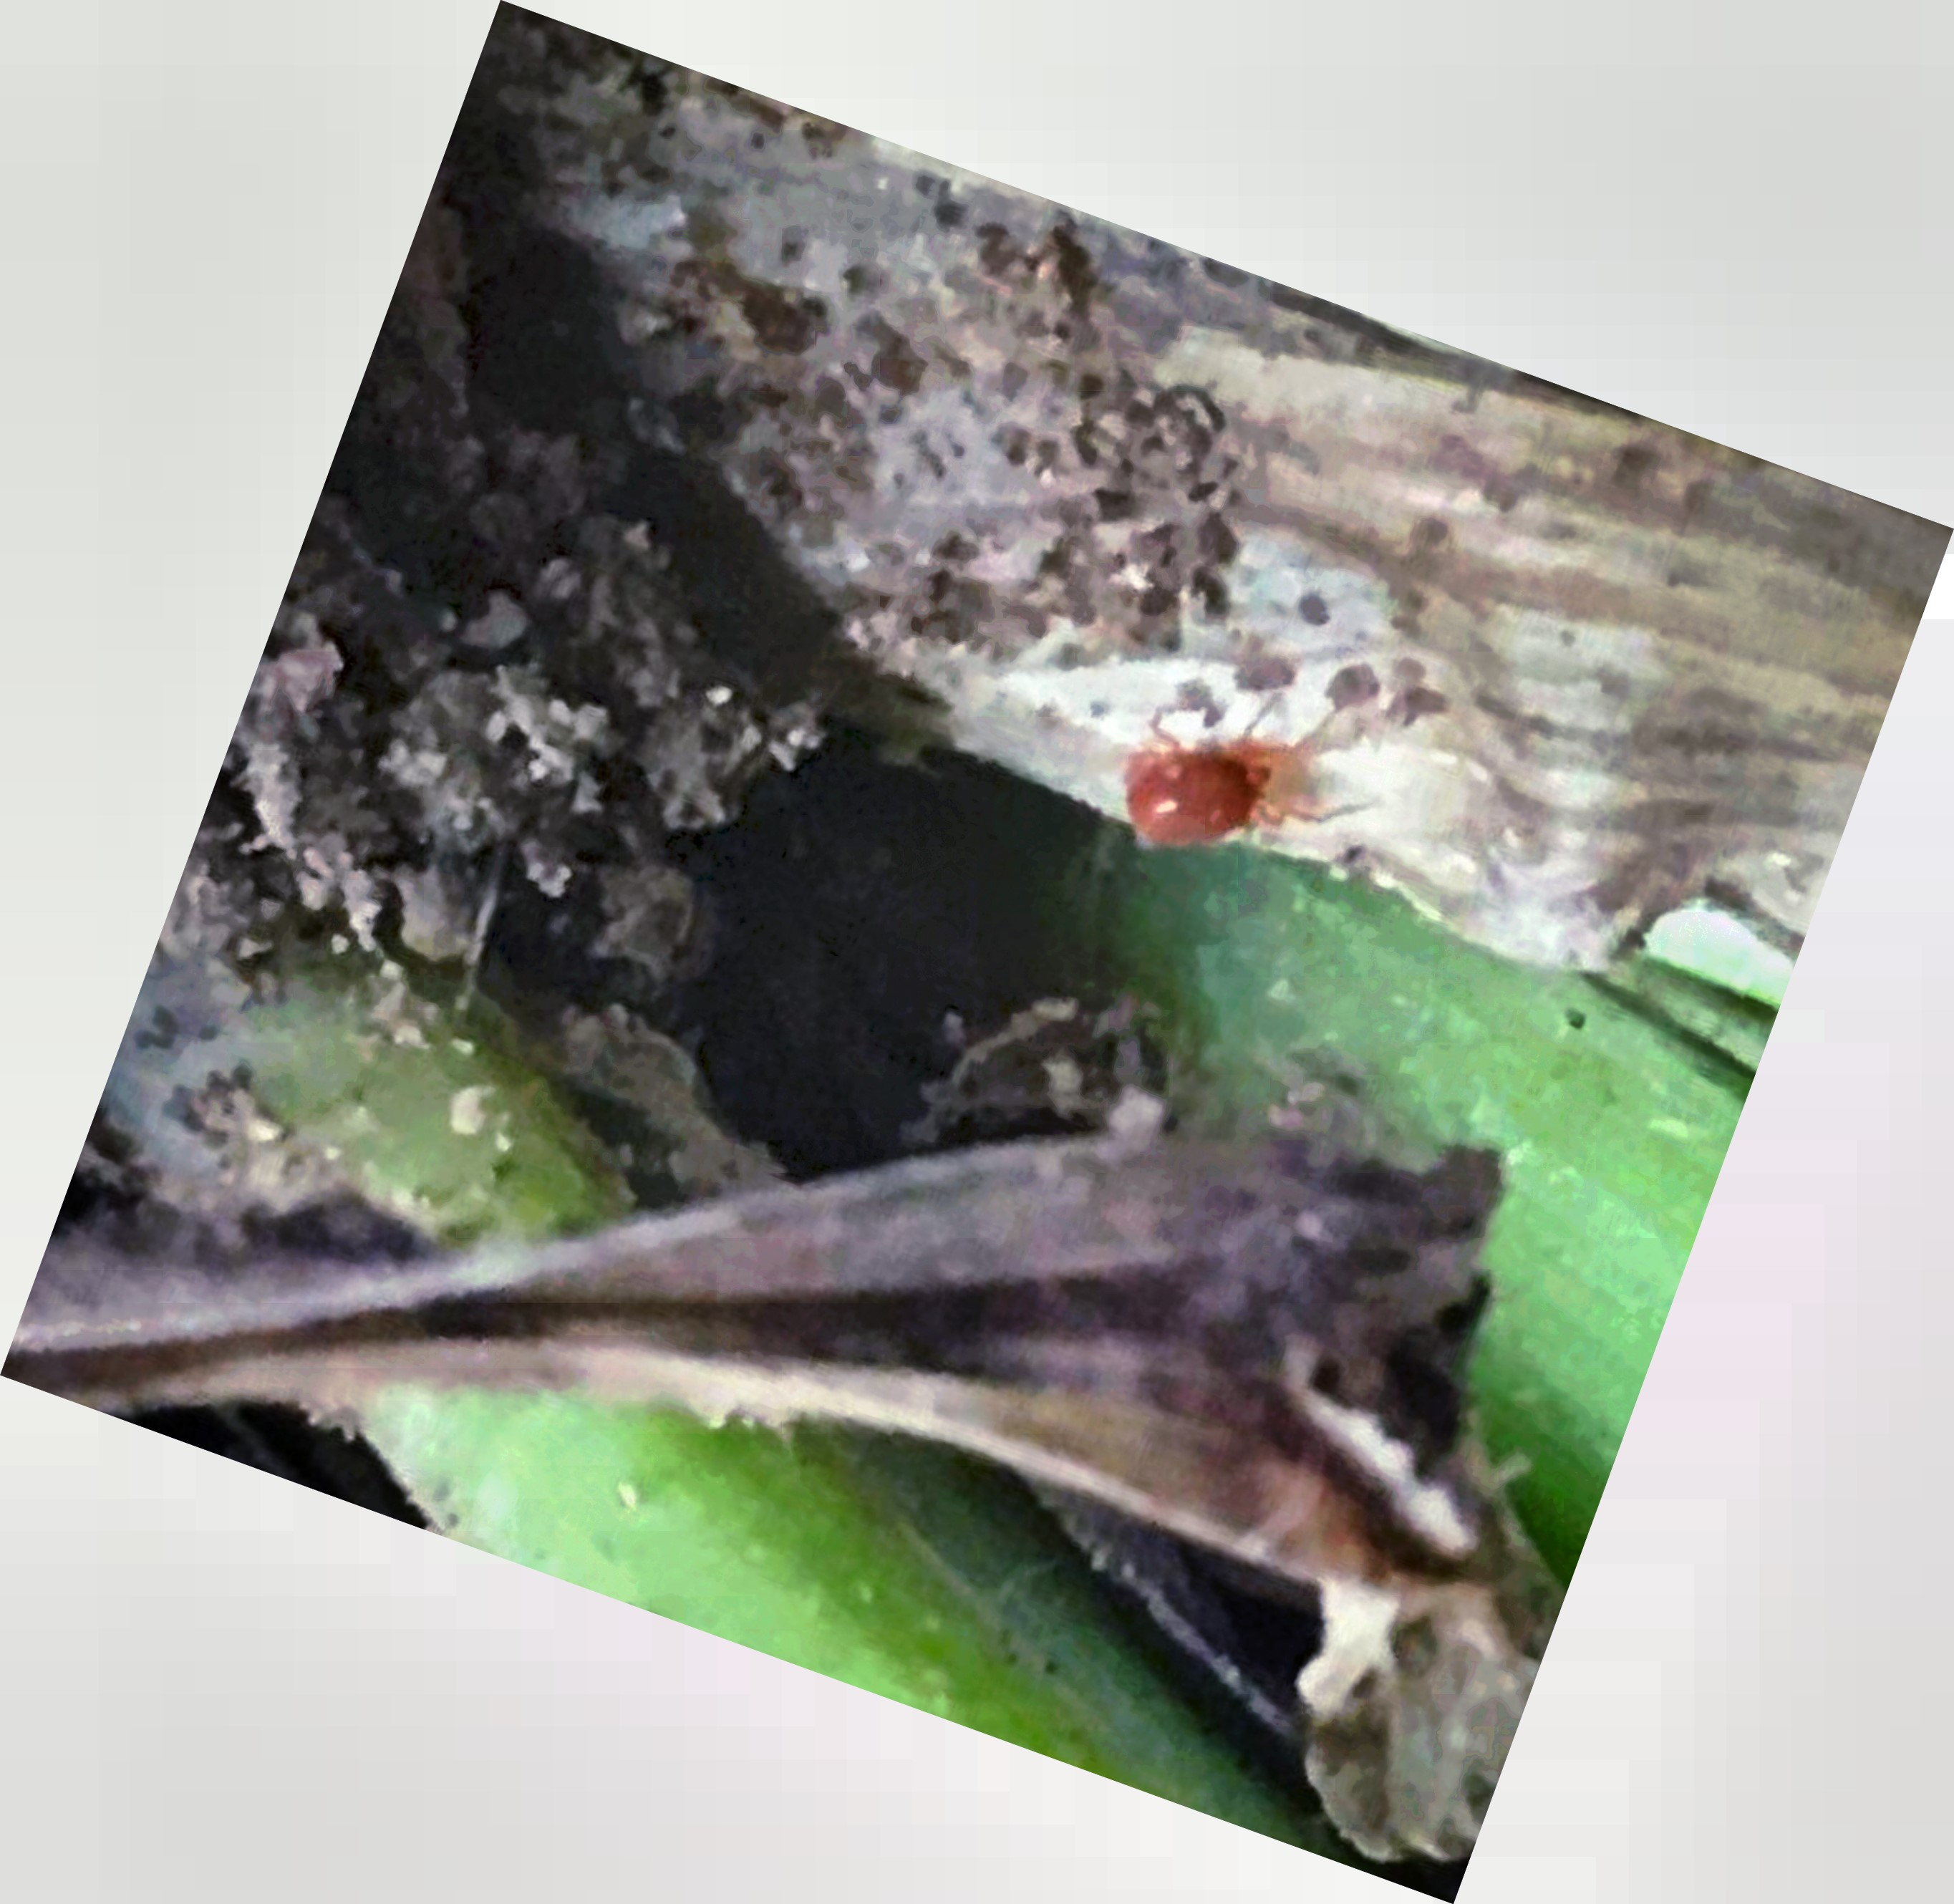Wheat Red Spider: (1066, 682, 1382, 887)
